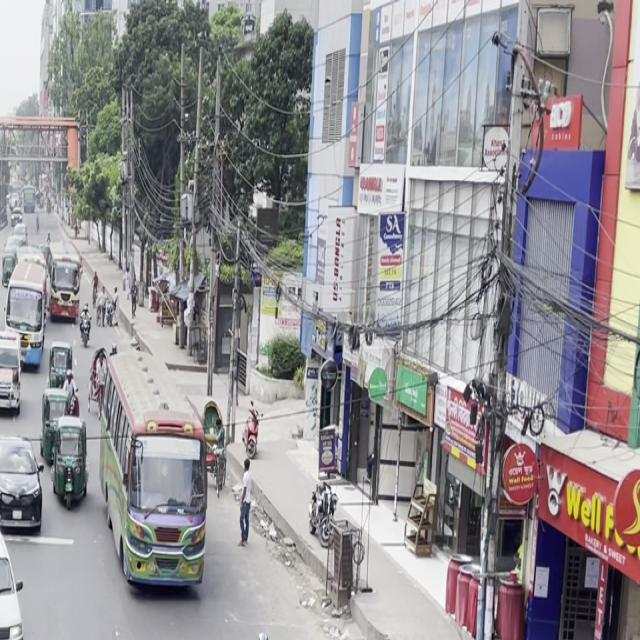bicycle: (0, 632, 4, 640)
car: (0, 428, 47, 537), (0, 510, 32, 640), (306, 617, 472, 640), (0, 335, 25, 419), (18, 323, 50, 379)
motorbike: (234, 620, 286, 640), (77, 299, 93, 347)
rickshaw: (48, 415, 92, 513), (87, 639, 181, 640)
